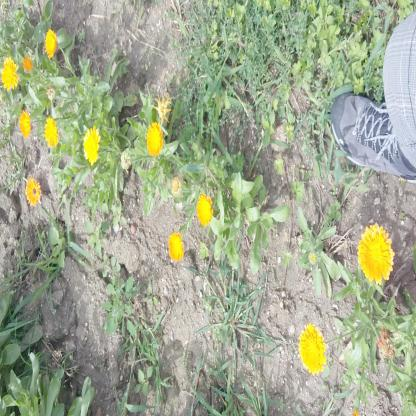marigold: (359, 225, 393, 284), (299, 324, 325, 376), (84, 128, 99, 164), (147, 123, 163, 156), (44, 118, 60, 148), (197, 193, 212, 225), (169, 233, 184, 262), (4, 59, 18, 89), (27, 177, 41, 205), (45, 30, 58, 58), (20, 111, 30, 136)
